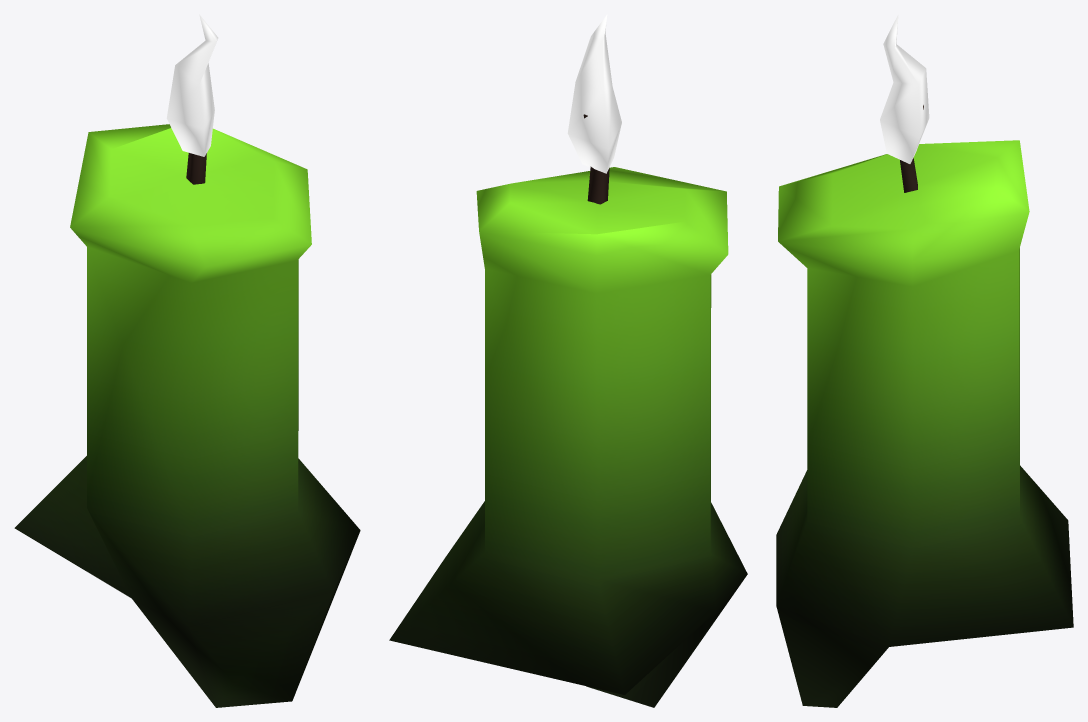
The model's file is CandleShapeE.019.glb.
3 views of the same model, side by side, from view 1: azimuth 30°, elevation 25°; view 2: azimuth 150°, elevation 25°; view 3: azimuth 270°, elevation 25° (orthographic). The views are drawn at different scales.
Visible parts, largest first — view 1: CandleShapeE.019; view 2: CandleShapeE.019; view 3: CandleShapeE.019.
Part boxes in pixels (bbox=[...]): CandleShapeE.019: bbox=[14, 14, 360, 707]; CandleShapeE.019: bbox=[389, 14, 747, 707]; CandleShapeE.019: bbox=[776, 15, 1073, 707].
Size of the model in its own units: 0.1424 by 0.327 by 0.1308.
2 materials, 2 textured.
